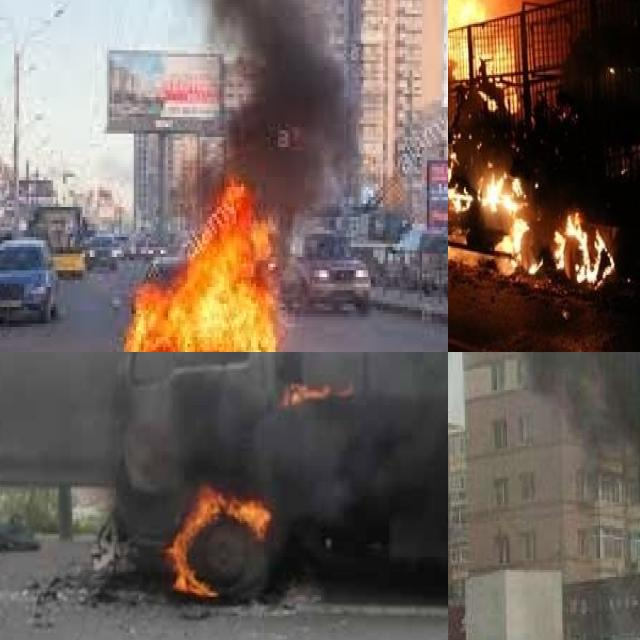fire: (448, 0, 625, 289), (119, 173, 287, 352), (160, 476, 283, 604), (273, 365, 352, 420)
smoke: (0, 352, 448, 503), (182, 0, 343, 210), (511, 352, 640, 607)
